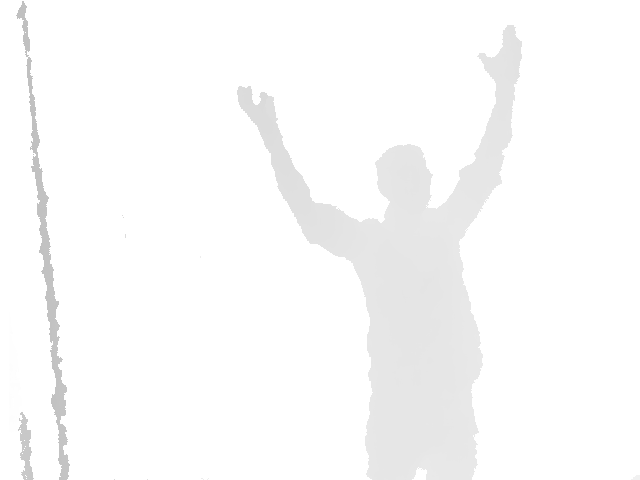hand: (478, 25, 524, 93), (236, 85, 279, 132)
head: (375, 143, 433, 212)
person: (236, 25, 525, 480)
